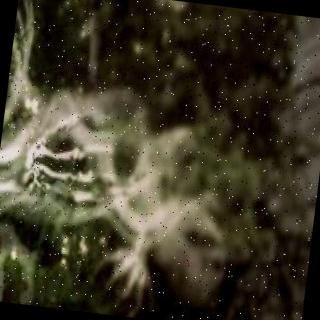smoke: (0, 105, 200, 299)
